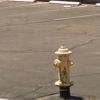Hydrant: (43, 37, 82, 93)
